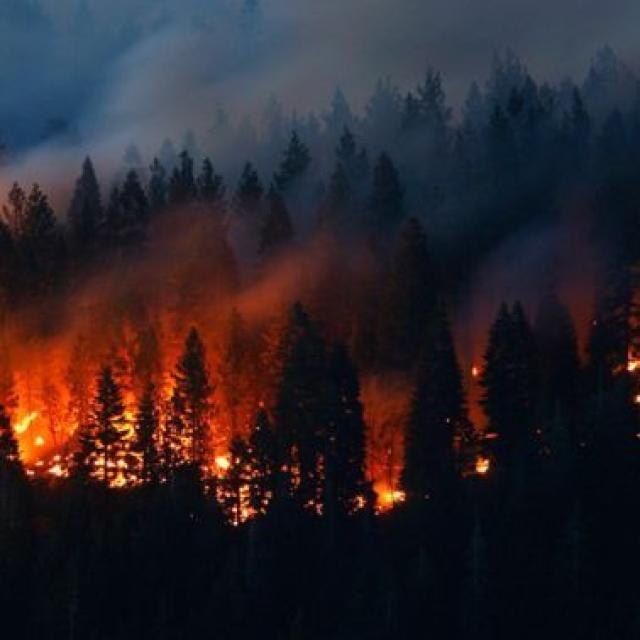Fire: (20, 373, 246, 512)
Smoke: (30, 117, 465, 460)
